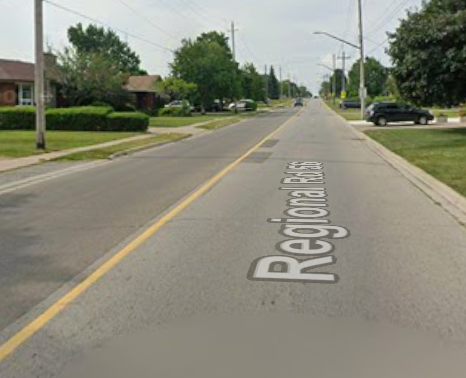cracks: (82, 214, 219, 236)
